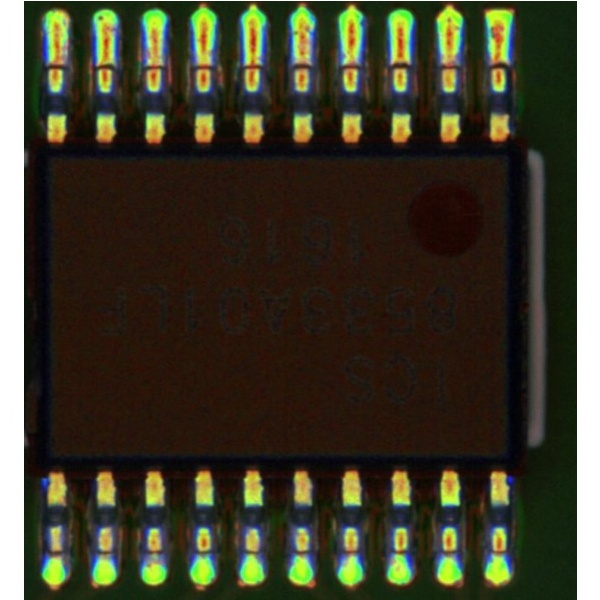Bad_podu: (48, 44, 63, 72), (294, 47, 309, 72), (148, 45, 161, 73), (441, 53, 457, 74), (98, 49, 112, 73), (393, 49, 407, 72), (341, 55, 357, 75), (489, 52, 504, 73), (242, 57, 260, 73), (194, 58, 211, 73)
